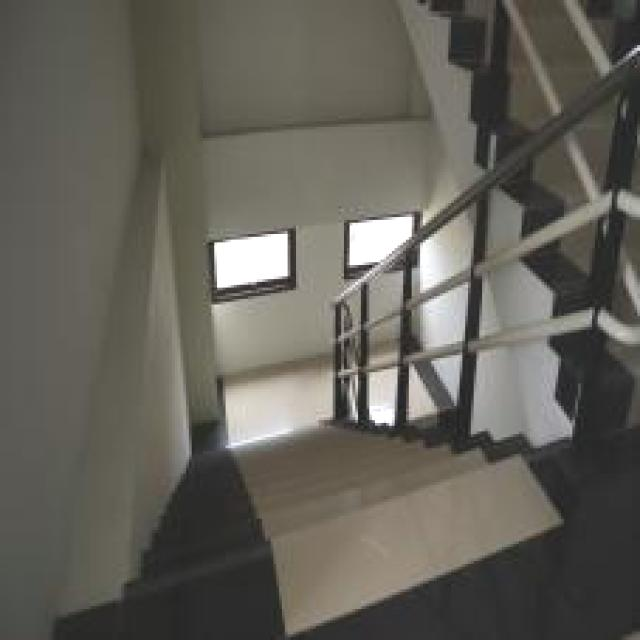downstair: (193, 461, 407, 554)
